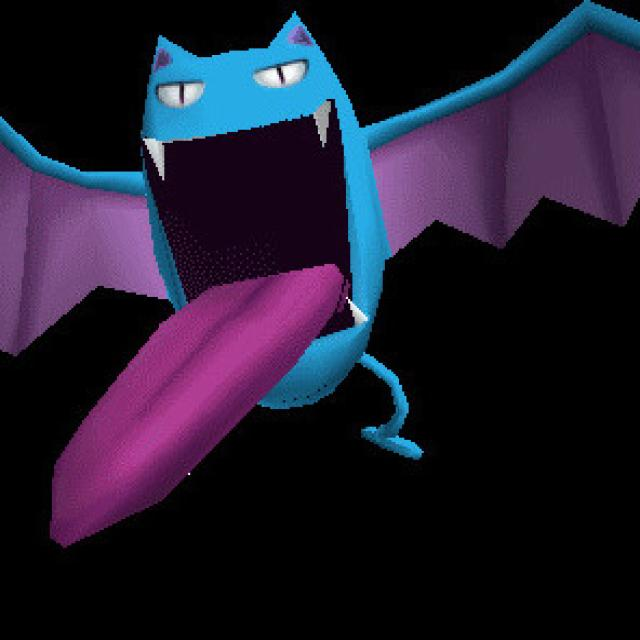Golbat: (0, 1, 533, 460)
